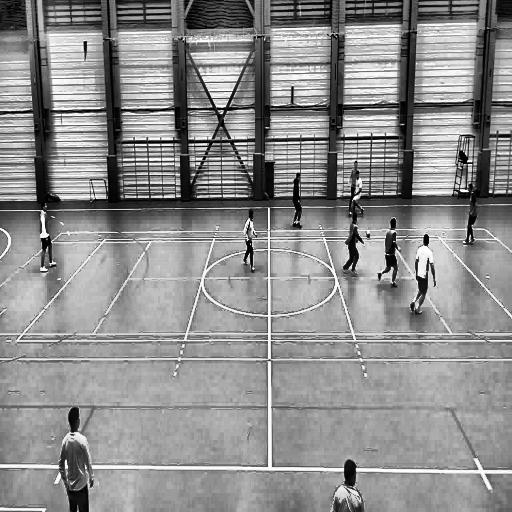ball: (365, 229, 372, 240)
player: (55, 403, 95, 512), (409, 236, 437, 325), (377, 218, 403, 290), (340, 213, 364, 281), (38, 198, 59, 274), (242, 207, 258, 280), (462, 180, 478, 250), (347, 172, 368, 218), (289, 174, 304, 233), (347, 159, 358, 213)
